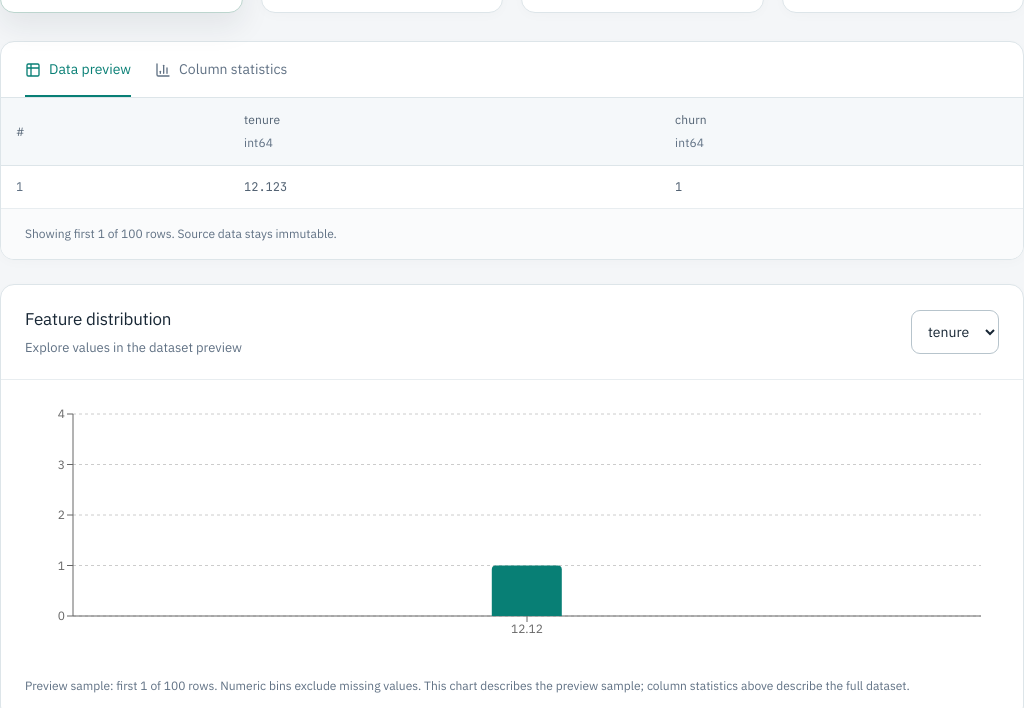
Test: dataset inspection and target configuration › renders real column metadata and preview, then persists the chosen target
(page scrolled)
Expected: the text "Showing first 1 of 100 rows. Source data stays immutable." is shown, [1,208,1023,259]
Expected: the picture named "Preview distribution of tenure" is shown, [1,380,1023,660]
Select "churn" in the dropdown named "Visualized feature" at (955, 332), box [911,310,999,354]
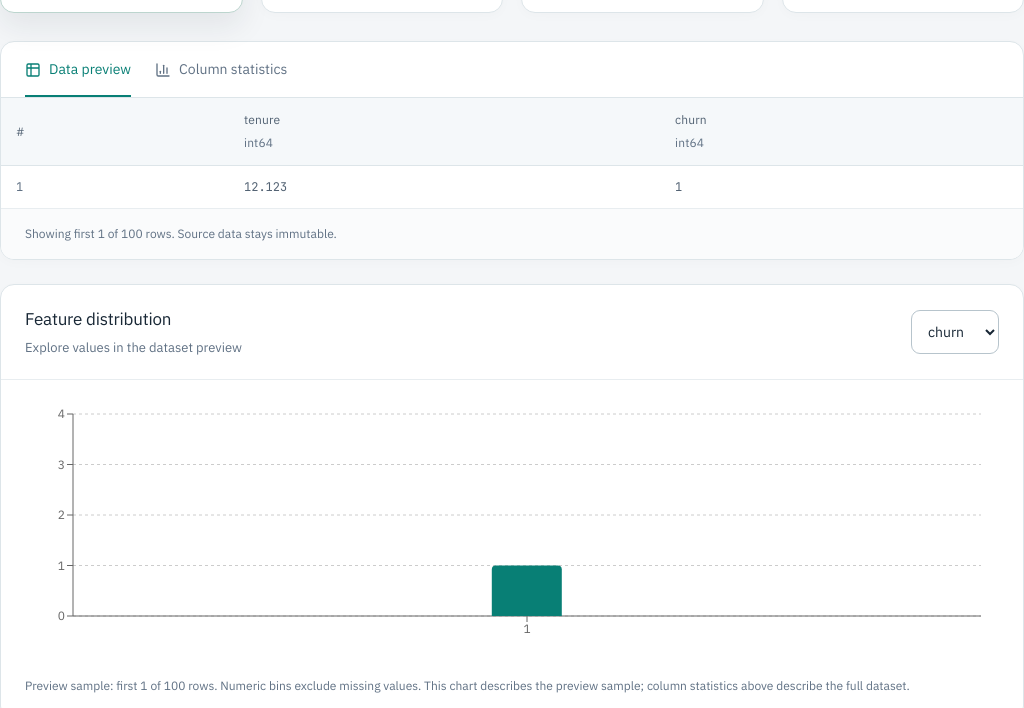
Expected: the picture named "Preview distribution of churn" is shown, [1,380,1023,660]
Click the button "Column statistics" at (221, 70), box [155,42,287,97]
(page scrolled)
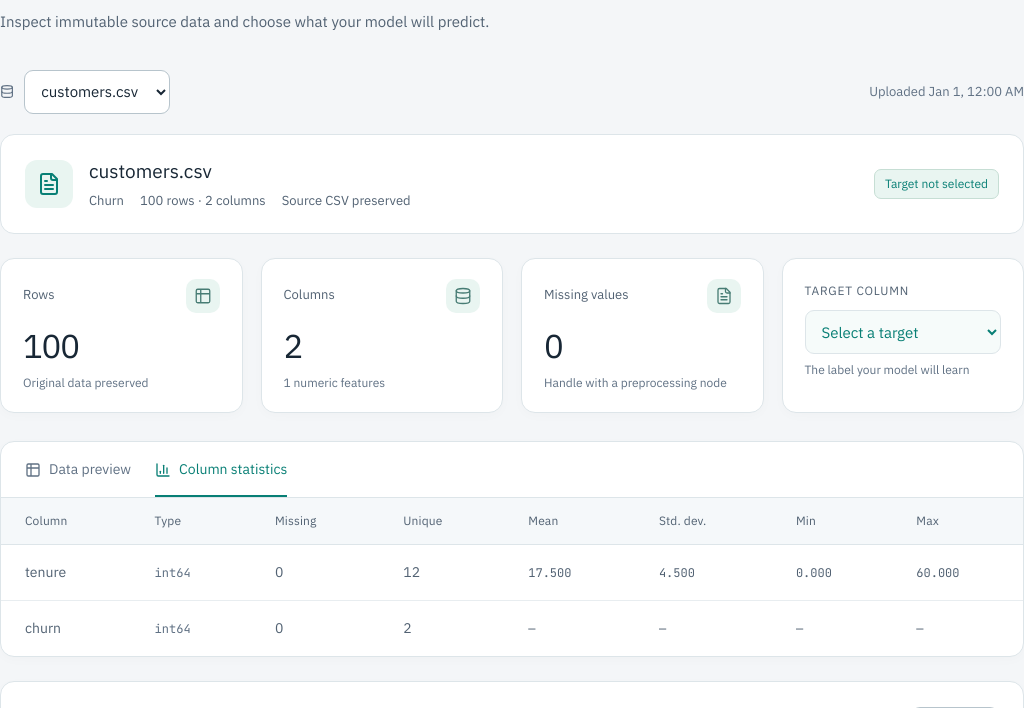
Expected: the element named "Column statistics" is shown, [1,498,1023,656]
Expected: the text "17.500" is shown, [504,545,635,601]
Select "churn" in the dropdown named "Target column" at (903, 332), box [804,310,1001,354]
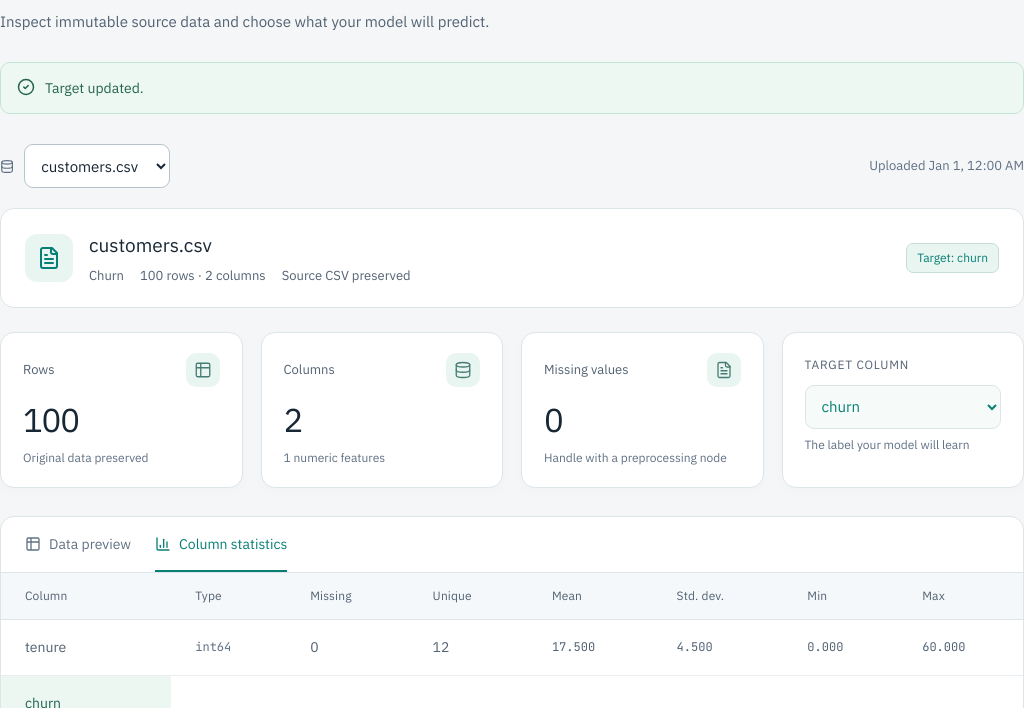
Expected: the text "Target updated." is shown, [45,77,144,99]
Expected: the text "Target: churn" is shown, [906,243,999,273]
